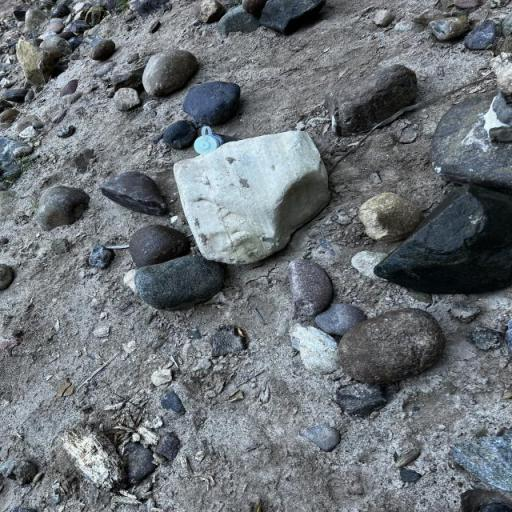bottle: (192, 126, 242, 155)
